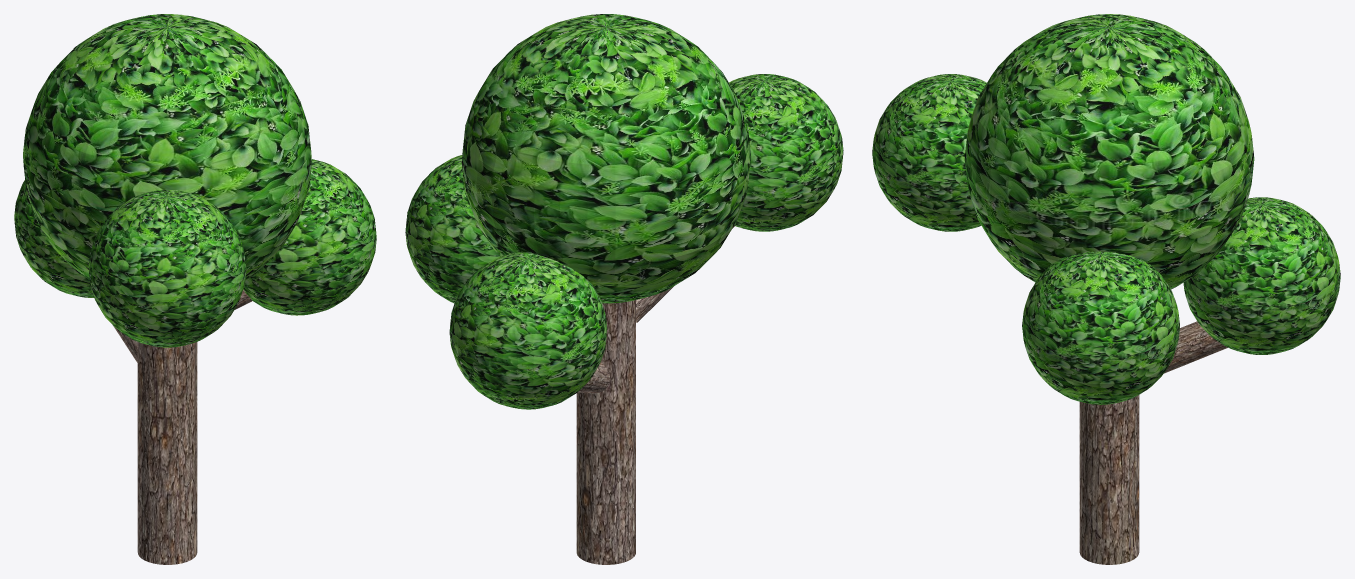
The model's file is tree.fbx.
3 views of the same model, side by side, from view 1: azimuth 30°, elevation 25°; view 2: azimuth 150°, elevation 25°; view 3: azimuth 270°, elevation 25° (orthographic).
Visible parts, largest first — view 1: Sphere, Sphere.001, Cylinder, Sphere.002, Sphere.003; view 2: Sphere, Sphere.003, Sphere.001, Cylinder, Sphere.002; view 3: Sphere, Sphere.002, Sphere.003, Sphere.001, Cylinder, Cylinder.002.
Part boxes in pixels (x1,y1,x2,y2): Sphere: (23, 14, 311, 279); Sphere.001: (88, 189, 246, 347); Cylinder: (137, 342, 197, 564); Sphere.002: (243, 159, 376, 315); Sphere.003: (14, 179, 94, 297); Sphere: (461, 14, 750, 303); Sphere.003: (449, 252, 607, 409); Sphere.001: (729, 74, 843, 231); Cylinder: (576, 300, 635, 564); Sphere.002: (405, 155, 500, 303); Sphere: (964, 14, 1254, 289); Sphere.002: (1022, 251, 1179, 404); Sphere.003: (1183, 197, 1340, 354); Sphere.001: (872, 74, 986, 231); Cylinder: (1079, 395, 1139, 564); Cylinder.002: (1164, 321, 1227, 373).
Size of the model in its own units: 1326 by 1944 by 1573.
Materials: 2 (2 with a texture image).
